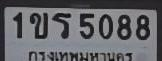0: (98, 14, 112, 39)
1: (12, 11, 21, 38)
5: (79, 13, 93, 39)
8: (117, 14, 131, 40), (136, 15, 150, 40)
A02: (30, 12, 48, 38)
A35: (51, 12, 70, 39)
BKK: (20, 48, 136, 61)
